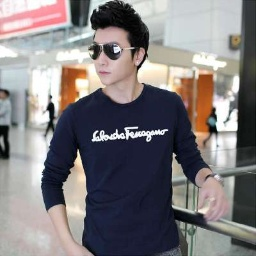face: (87, 1, 151, 85)
